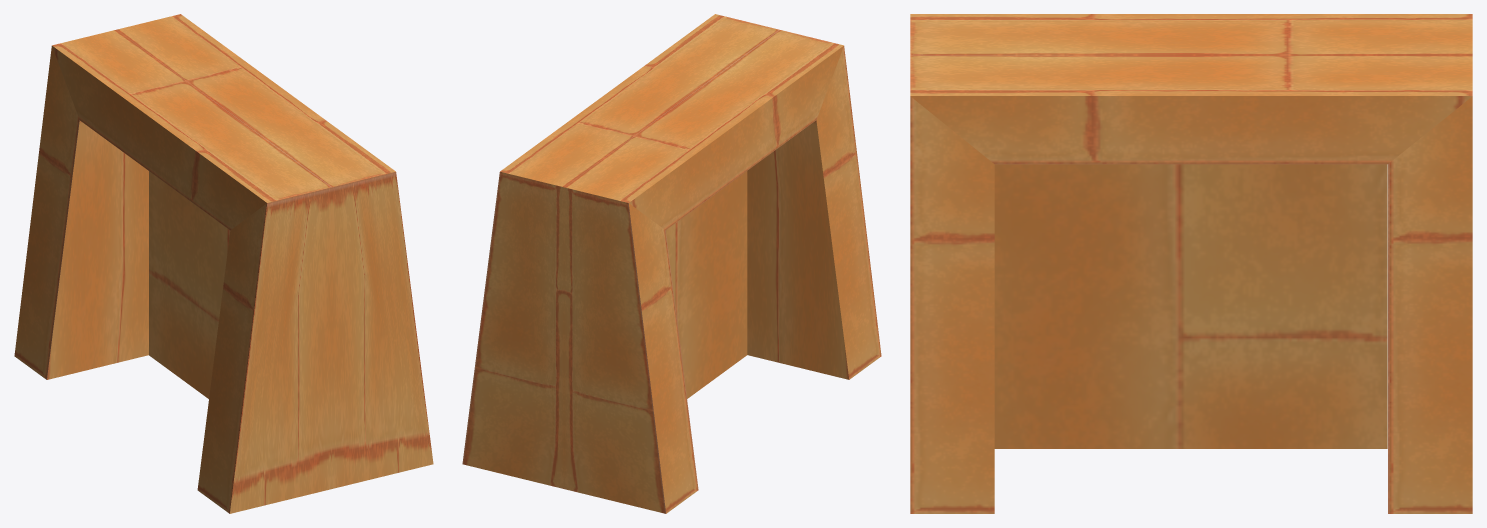
File: TempleEmbelisher03_Art.glb
The picture shows the model from 3 angles, left to right: view 1: azimuth 30°, elevation 25°; view 2: azimuth 150°, elevation 25°; view 3: azimuth 270°, elevation 25°; orthographic projection. The views are drawn at different scales.
Visible parts, largest first — view 1: TempleEmbelisher03_Art; view 2: TempleEmbelisher03_Art; view 3: TempleEmbelisher03_Art.
Boxes of the visible parts, <box> form: TempleEmbelisher03_Art: <box>14,14,433,513</box>; TempleEmbelisher03_Art: <box>462,14,881,513</box>; TempleEmbelisher03_Art: <box>910,14,1472,513</box>.
Bounding box in the file's own units: 3.65 × 5.16 × 6.68.
Materials: 1 (1 with a texture image).
